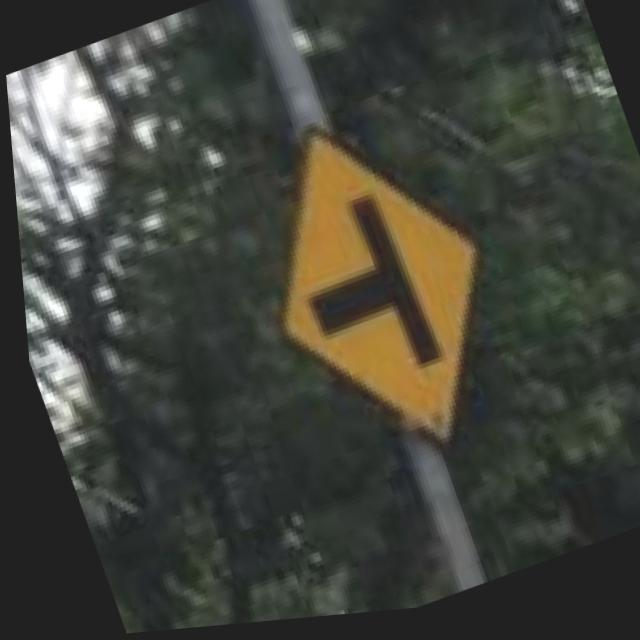Persimpangan 3 Sisi Kiri: (225, 96, 522, 482)
